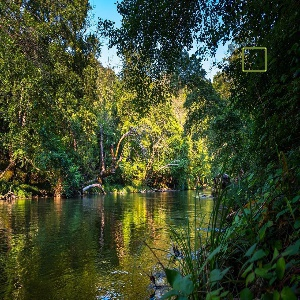square: (239, 45, 268, 73)
